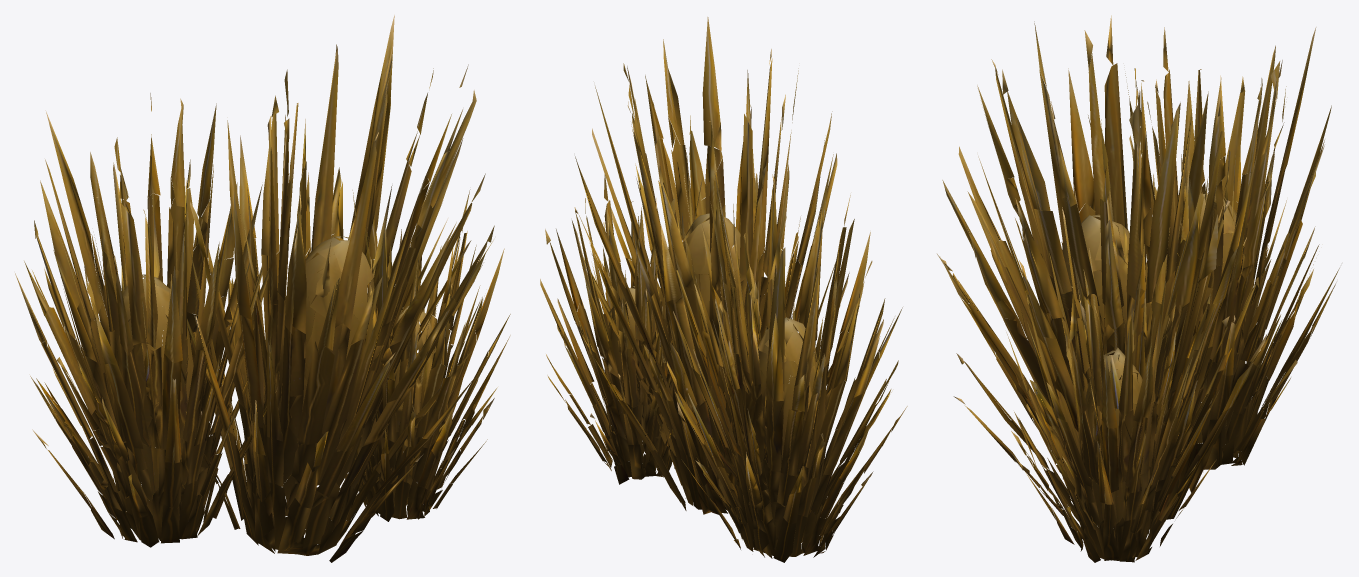
Rendered from desert_grass_blades_trio.glb.
3 views of the same model, side by side, from view 1: azimuth 30°, elevation 25°; view 2: azimuth 150°, elevation 25°; view 3: azimuth 270°, elevation 25° (orthographic). The views are drawn at different scales.
Parts seen in each view (by area): view 1: desert_grass_blades_trio; view 2: desert_grass_blades_trio; view 3: desert_grass_blades_trio.
Boxes of the visible parts, x1,y1,x2,y2 form: desert_grass_blades_trio: [15, 15, 510, 562]; desert_grass_blades_trio: [540, 17, 907, 562]; desert_grass_blades_trio: [937, 15, 1339, 562].
Size of the model in its own units: 0.9253 by 0.9983 by 0.7517.
1 material, 1 textured.
